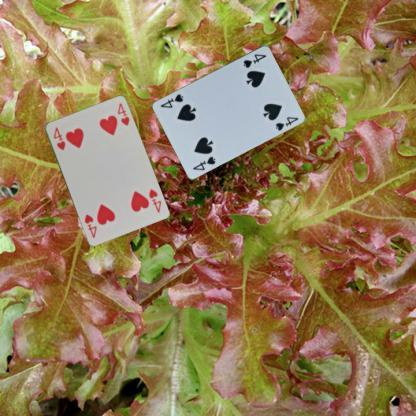4h: (146, 186, 163, 214), (50, 124, 66, 152)
4s: (240, 51, 268, 69), (190, 154, 217, 172)
